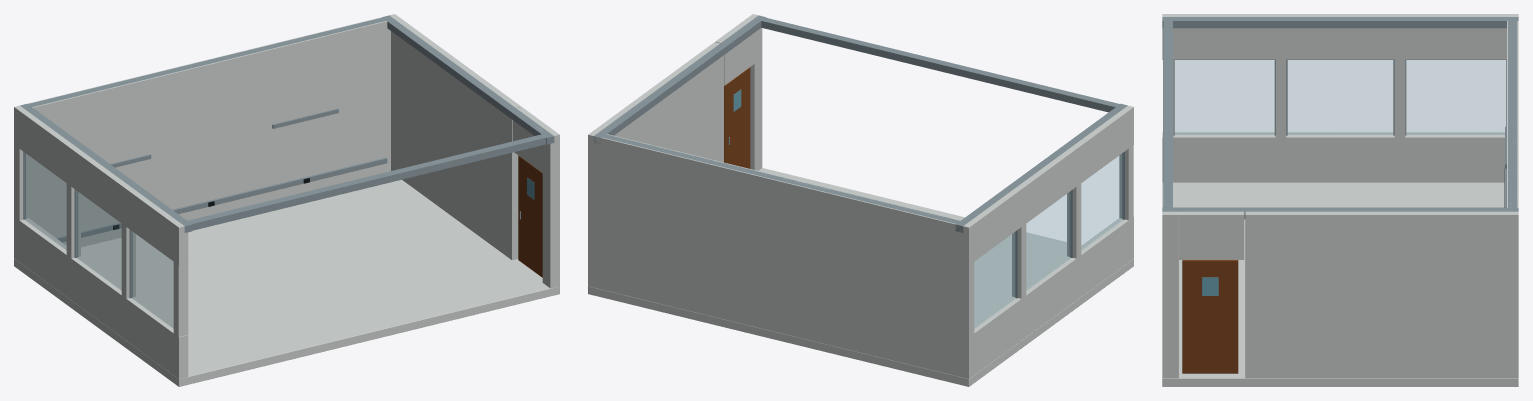
Rendered from edited.glb.
The picture shows the model from 3 angles, left to right: view 1: azimuth 30°, elevation 25°; view 2: azimuth 150°, elevation 25°; view 3: azimuth 270°, elevation 25°; orthographic projection. The views are drawn at different scales.
Parts seen in each view (by area): view 1: FLOOR, WALL_Back, WALL_RightRear, WINDOW_Band, WINDOW_Band.001, CEILING_EndBeam.001, WINDOW_Clear.001, WINDOW_Clear.002, WINDOW_Clear, WALL_RightFront, DOOR_Panel, CEILING_EdgeBeam (+8 smaller); view 2: WALL_Back, FLOOR, WINDOW_Band, WINDOW_Band.001, WALL_RightRear, CEILING_EndBeam.001, WINDOW_Clear.001, WINDOW_Clear, WINDOW_Clear.002, CEILING_EdgeBeam, DOOR_Panel, CEILING_EndBeam (+7 smaller); view 3: WALL_RightRear, WINDOW_Band, FLOOR, WINDOW_Band.001, WINDOW_Clear.001, WINDOW_Clear, WINDOW_Clear.002, DOOR_Panel, CEILING_EdgeBeam.001, DOOR_Header, WALL_RightFront, WALL_Back (+6 smaller).
Boxes of the visible parts, bbox=[...] form: FLOOR: bbox=[14, 179, 559, 386]; WALL_Back: bbox=[14, 14, 399, 247]; WALL_RightRear: bbox=[391, 14, 521, 260]; WINDOW_Band: bbox=[14, 217, 188, 378]; WINDOW_Band.001: bbox=[14, 107, 188, 265]; CEILING_EndBeam.001: bbox=[187, 134, 549, 230]; WINDOW_Clear.001: bbox=[77, 191, 121, 290]; WINDOW_Clear.002: bbox=[24, 153, 66, 249]; WINDOW_Clear: bbox=[132, 232, 173, 328]; WALL_RightFront: bbox=[542, 129, 559, 288]; DOOR_Panel: bbox=[518, 155, 542, 277]; CEILING_EdgeBeam: bbox=[382, 15, 554, 144]; WALL_Back: bbox=[588, 130, 974, 378]; FLOOR: bbox=[588, 168, 1133, 386]; WINDOW_Band: bbox=[959, 217, 1133, 374]; WINDOW_Band.001: bbox=[959, 105, 1133, 264]; WALL_RightRear: bbox=[594, 42, 723, 162]; CEILING_EndBeam.001: bbox=[760, 17, 1123, 112]; WINDOW_Clear.001: bbox=[1026, 191, 1070, 290]; WINDOW_Clear: bbox=[1081, 153, 1123, 249]; WINDOW_Clear.002: bbox=[974, 232, 1015, 328]; CEILING_EdgeBeam: bbox=[593, 15, 765, 144]; DOOR_Panel: bbox=[724, 67, 750, 168]; CEILING_EndBeam: bbox=[598, 134, 960, 224]; WALL_RightRear: bbox=[1245, 211, 1518, 378]; WINDOW_Band: bbox=[1162, 132, 1504, 182]; FLOOR: bbox=[1162, 182, 1518, 386]; WINDOW_Band.001: bbox=[1162, 14, 1518, 59]; WINDOW_Clear.001: bbox=[1288, 60, 1392, 134]; WINDOW_Clear: bbox=[1175, 60, 1274, 134]; WINDOW_Clear.002: bbox=[1406, 60, 1505, 134]; DOOR_Panel: bbox=[1182, 260, 1238, 373]; CEILING_EdgeBeam.001: bbox=[1162, 17, 1518, 28]; DOOR_Header: bbox=[1179, 211, 1244, 259]; WALL_RightFront: bbox=[1162, 211, 1178, 378]; WALL_Back: bbox=[1507, 14, 1518, 378].
Size of the model in its own units: 8 by 3.2 by 6.
